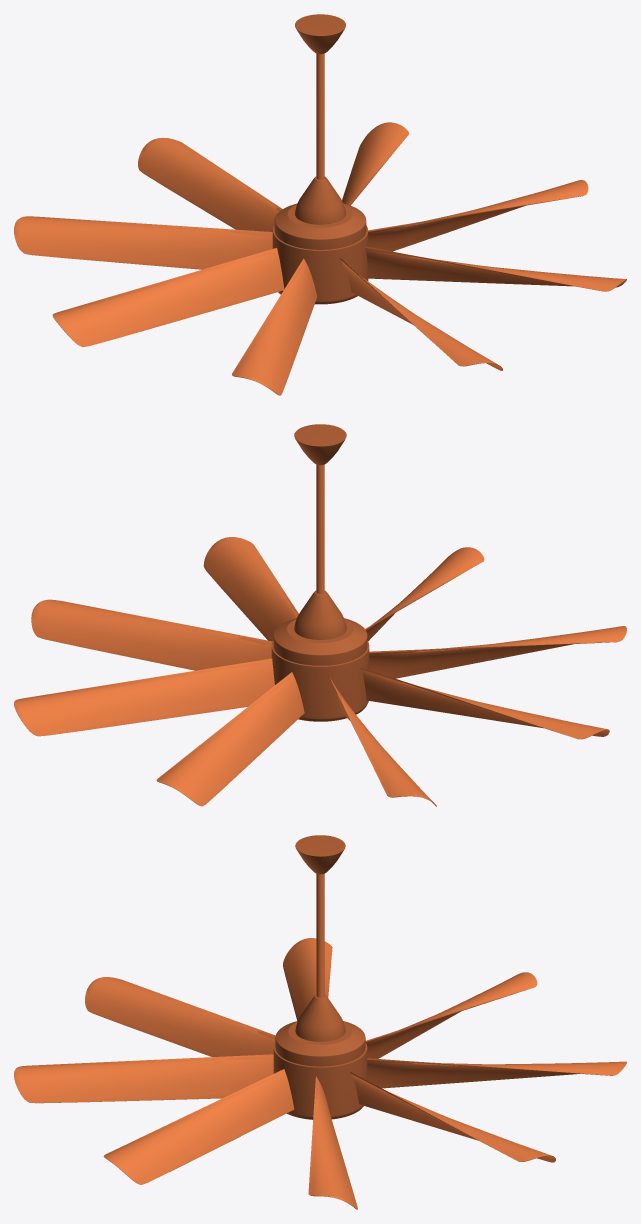
3 views of the same model, one above another, from view 1: azimuth 30°, elevation 25°; view 2: azimuth 150°, elevation 25°; view 3: azimuth 270°, elevation 25° (orthographic). The views are drawn at different scales.
Visible parts, largest first — view 1: Plane.005, Plane.006, Plane.004, Plane.007, Plane.001, Cylinder, Plane.002, Cylinder.003, Plane, Plane.003, Cylinder.004, Cylinder.006 (+1 smaller); view 2: Plane.003, Plane.002, Plane.004, Plane.001, Plane.007, Plane.006, Cylinder, Cylinder.003, Plane.005, Plane, Cylinder.004, Cylinder.006 (+1 smaller); view 3: Plane, Plane.001, Plane.007, Plane.004, Cylinder, Plane.003, Plane.002, Cylinder.003, Plane.005, Plane.006, Cylinder.004, Cylinder.006 (+1 smaller).
Part boxes in pixels (bbox=[...]): Plane.005: bbox=[14, 216, 272, 269]; Plane.006: bbox=[52, 248, 284, 346]; Plane.004: bbox=[138, 137, 282, 231]; Plane.007: bbox=[232, 258, 317, 395]; Plane.001: bbox=[365, 246, 626, 291]; Cylinder: bbox=[272, 225, 368, 303]; Plane.002: bbox=[368, 180, 588, 251]; Cylinder.003: bbox=[274, 203, 366, 249]; Plane: bbox=[340, 258, 502, 370]; Plane.003: bbox=[342, 122, 408, 205]; Cylinder.004: bbox=[295, 176, 345, 224]; Cylinder.006: bbox=[295, 14, 345, 54]; Plane.003: bbox=[14, 658, 274, 736]; Plane.002: bbox=[31, 599, 272, 670]; Plane.004: bbox=[156, 672, 304, 806]; Plane.001: bbox=[203, 537, 298, 641]; Plane.007: bbox=[369, 626, 626, 678]; Plane.006: bbox=[360, 667, 609, 739]; Cylinder: bbox=[271, 640, 369, 721]; Cylinder.003: bbox=[273, 618, 367, 665]; Plane.005: bbox=[328, 676, 436, 806]; Plane: bbox=[365, 547, 484, 641]; Cylinder.004: bbox=[294, 590, 346, 639]; Cylinder.006: bbox=[294, 424, 346, 465]; Plane: bbox=[14, 1054, 273, 1103]; Plane.001: bbox=[103, 1069, 294, 1184]; Plane.007: bbox=[85, 977, 275, 1056]; Plane.004: bbox=[367, 1058, 626, 1088]; Cylinder: bbox=[273, 1043, 367, 1119]; Plane.003: bbox=[350, 1072, 555, 1162]; Plane.002: bbox=[308, 1076, 357, 1209]; Cylinder.003: bbox=[275, 1021, 365, 1066]; Plane.005: bbox=[365, 972, 537, 1058]; Plane.006: bbox=[283, 938, 332, 1020]; Cylinder.004: bbox=[295, 994, 345, 1041]; Cylinder.006: bbox=[295, 835, 345, 874].
Bounding box in the file's own units: 11.76 × 5.42 × 11.76.
